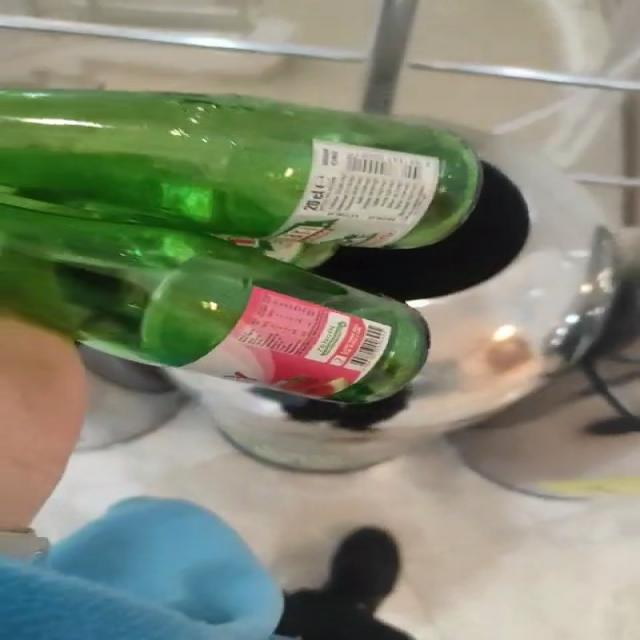glass: (0, 90, 483, 403)
